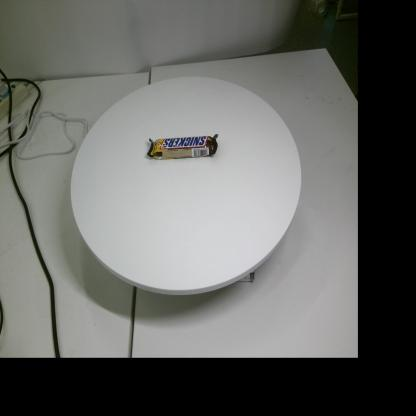Chocolate: (146, 134, 218, 160)
